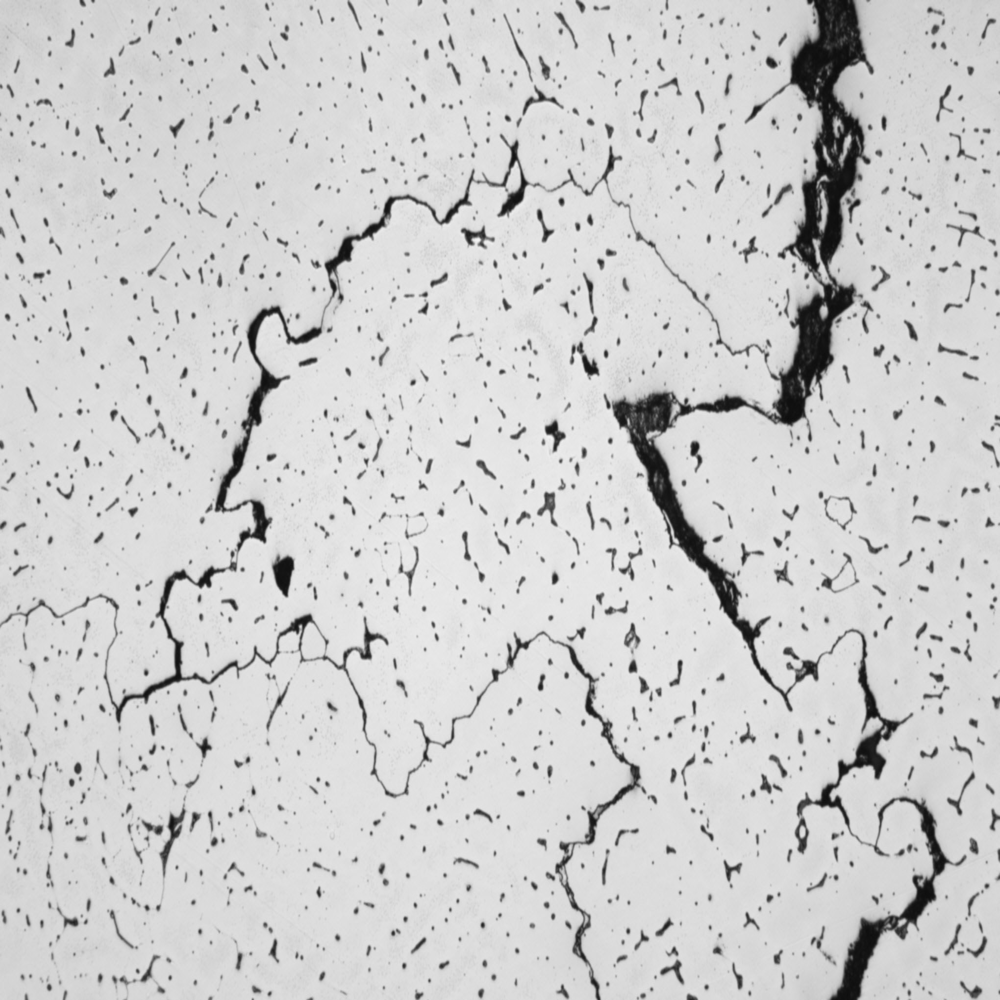crack: (149, 86, 649, 1000), (610, 8, 967, 987)
